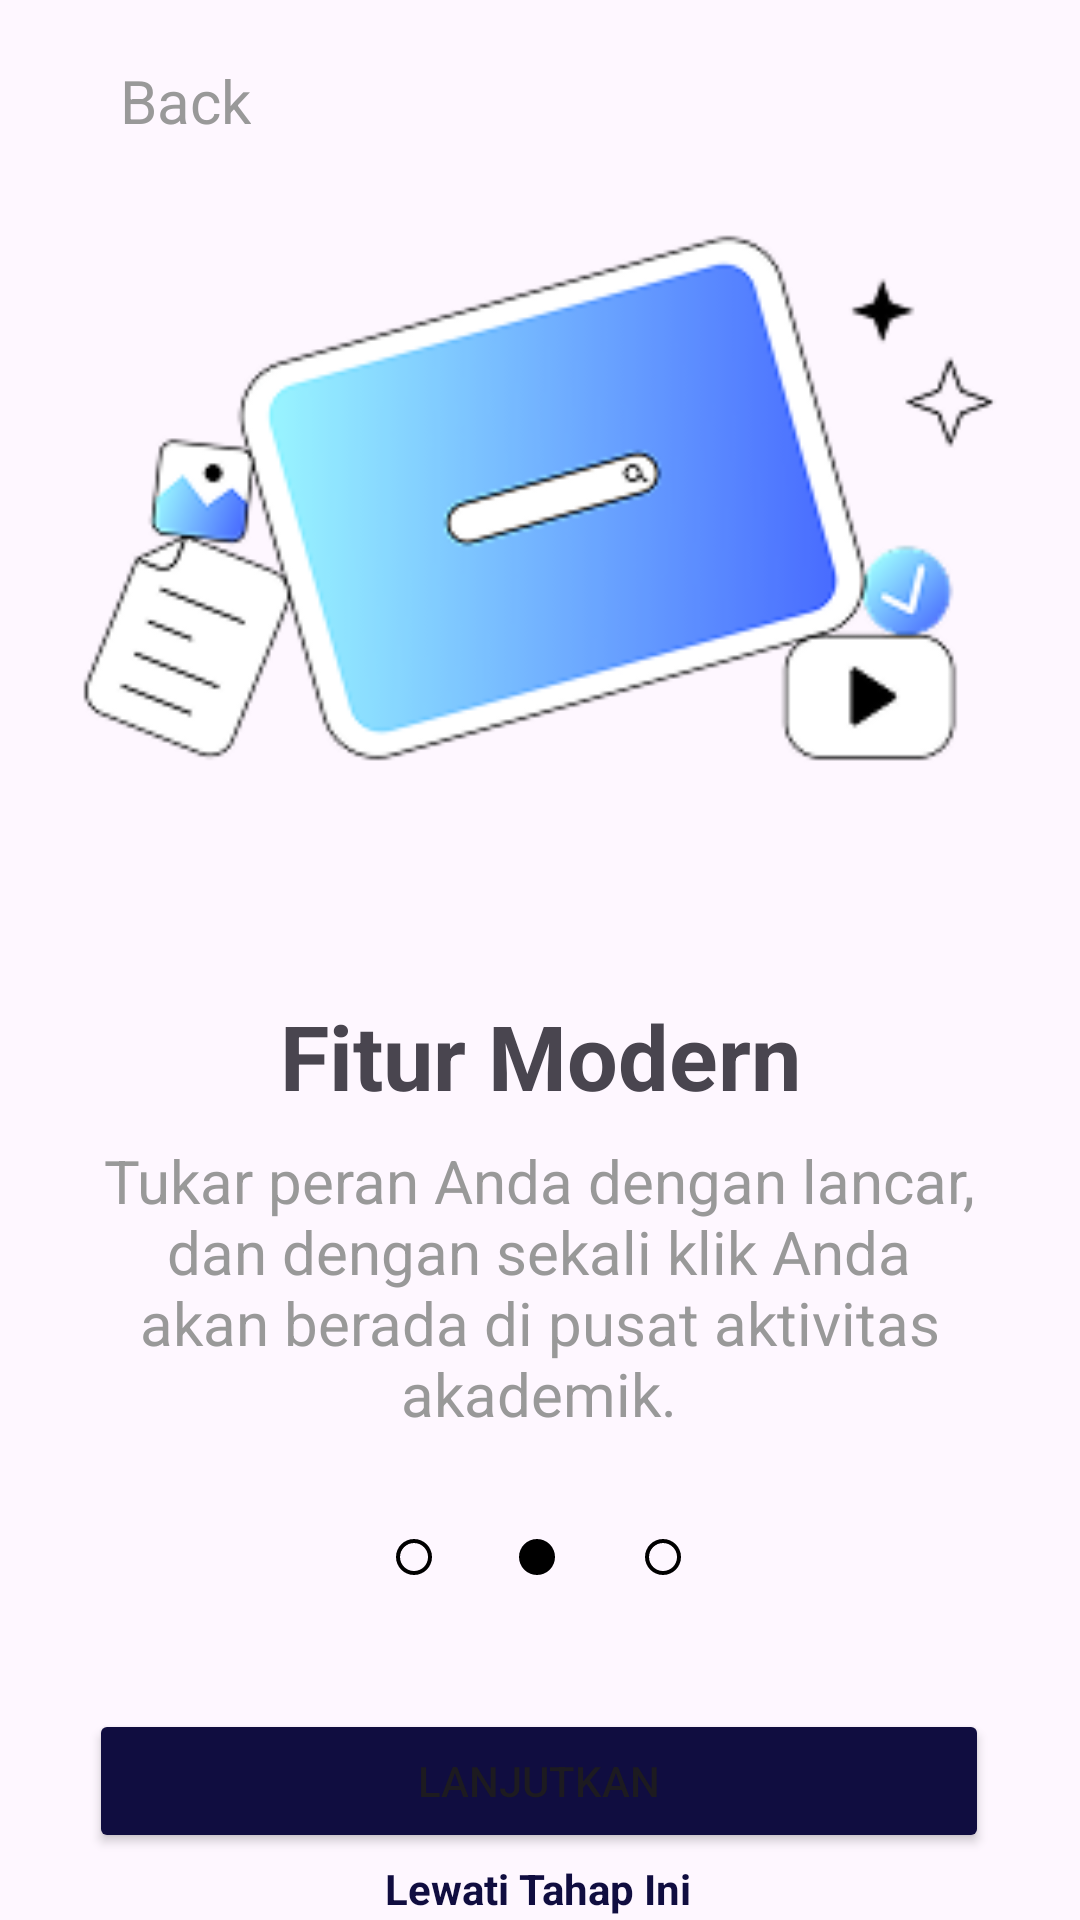

Named icons in this screenshot (1080px x 1920px) and their bounding boxes, [x1,y1,x2,y2]:
circlebolong: [396,1539,432,1575], [645,1539,681,1575]
